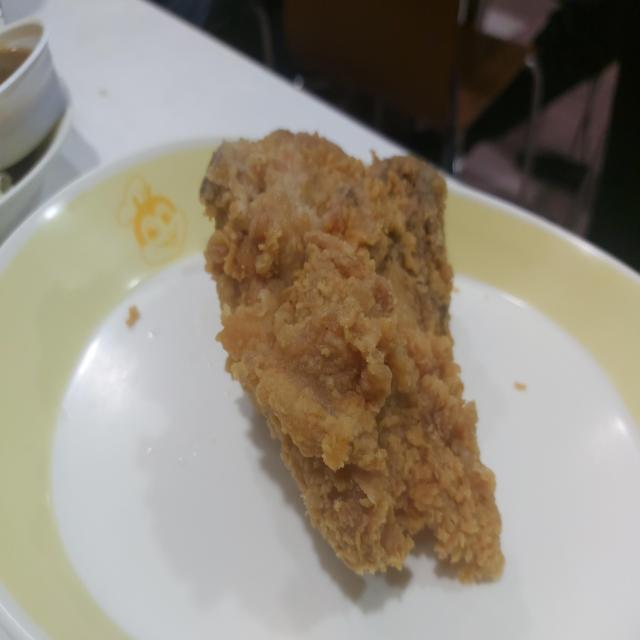Chicken -Fried Chicken-: (166, 89, 516, 573)
